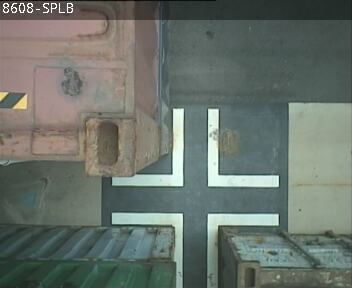groundmarker_1: (112, 109, 278, 186), (112, 211, 278, 288)
